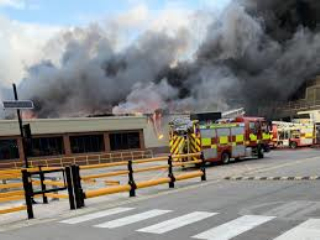smoke: (10, 23, 314, 120)
